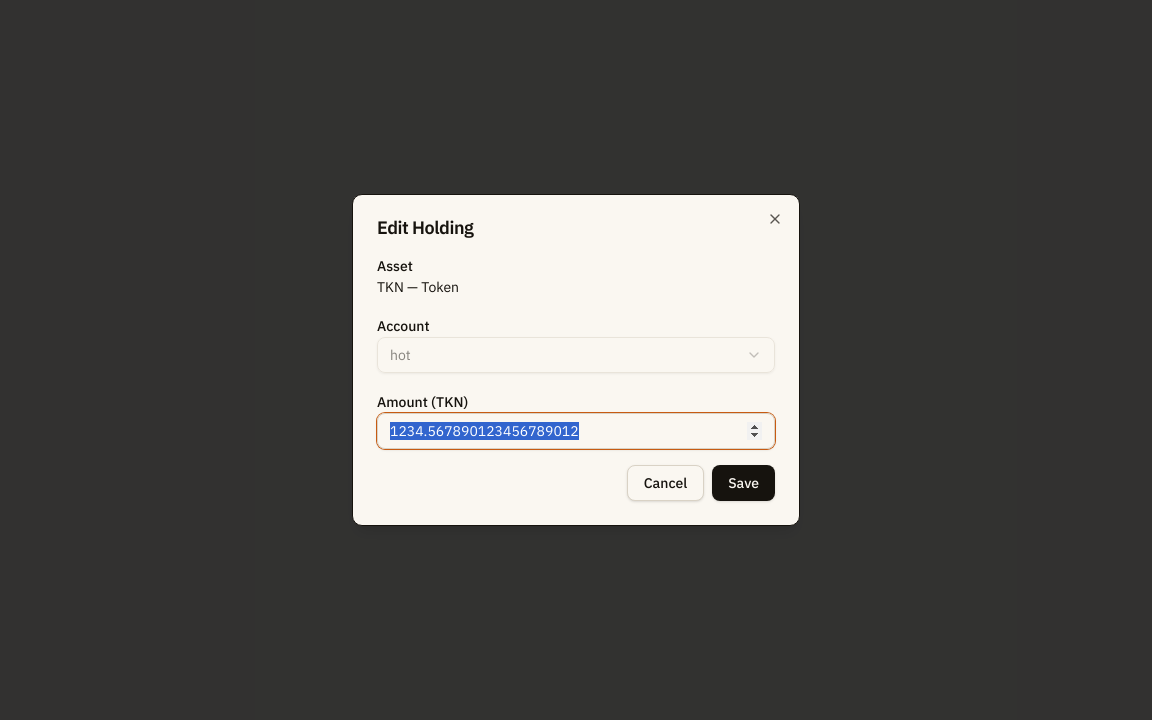
Test: HoldingForm › refuses more fraction digits than the asset carries instead of rounding
The image size is (1152, 720).
Replace the text in the number field labelled "Amount (TKN)" with "0.1234567890123456789" at (576, 431), box [377, 413, 775, 449]
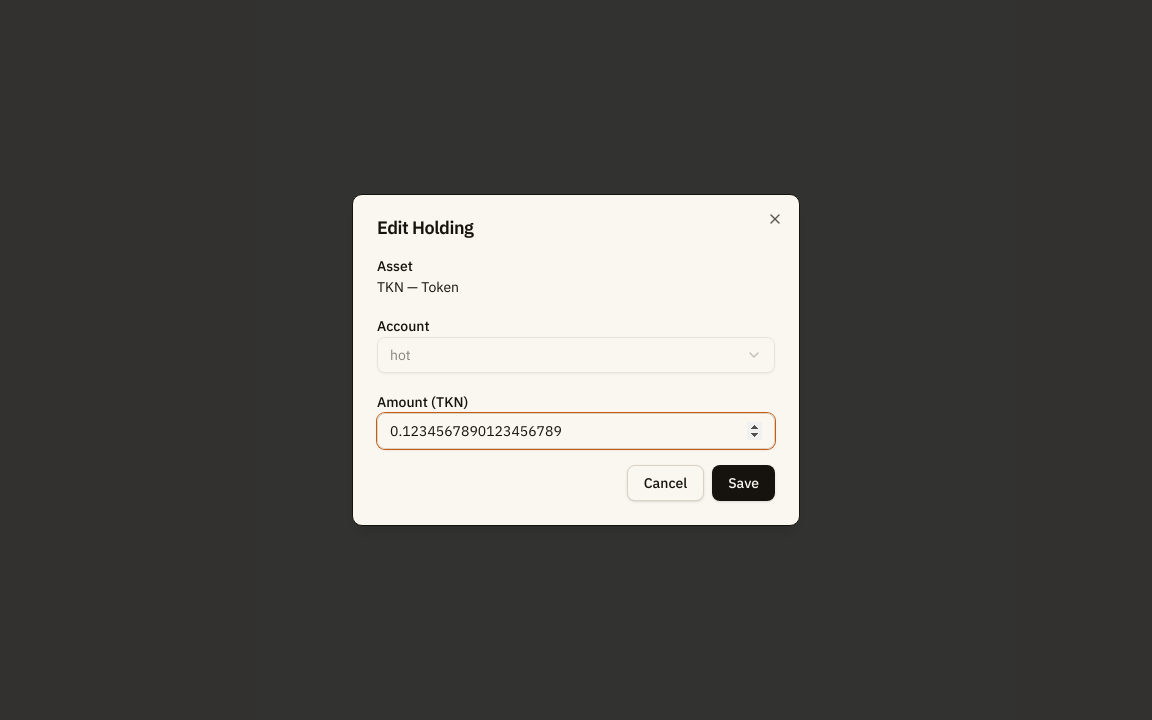
Click the button "Save" at (744, 483), box [712, 465, 775, 501]
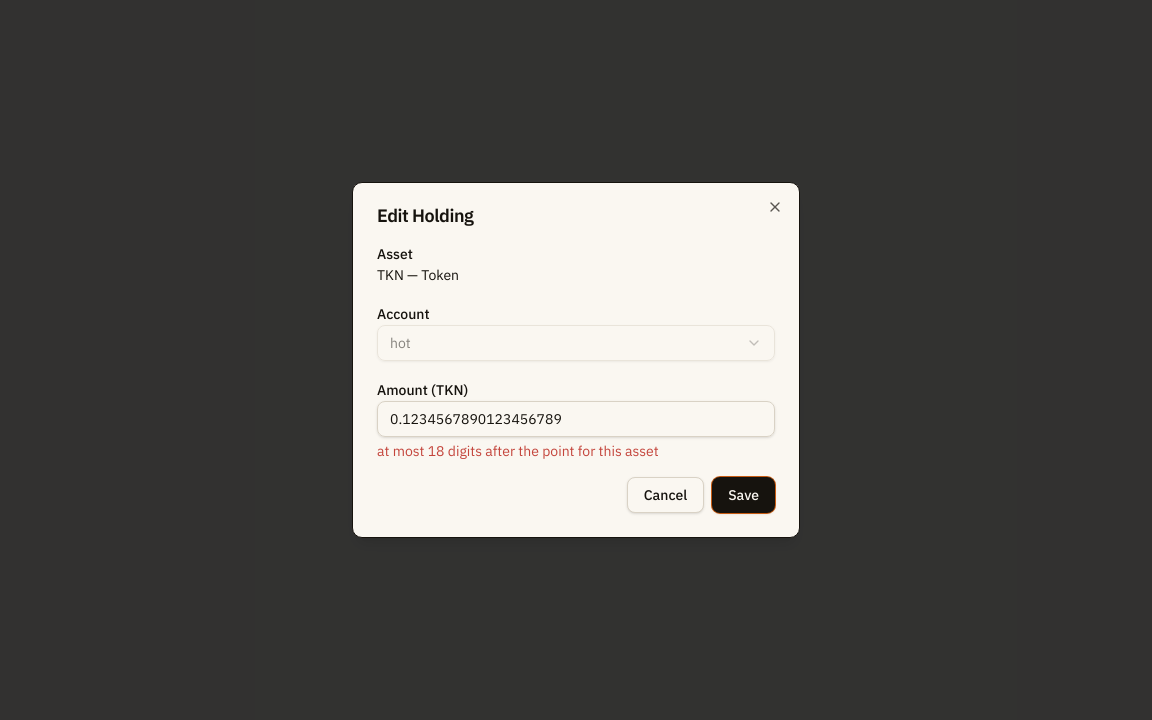
Expected: the text "at most 18 digits after the point for this asset" is shown, [377, 442, 659, 460]
